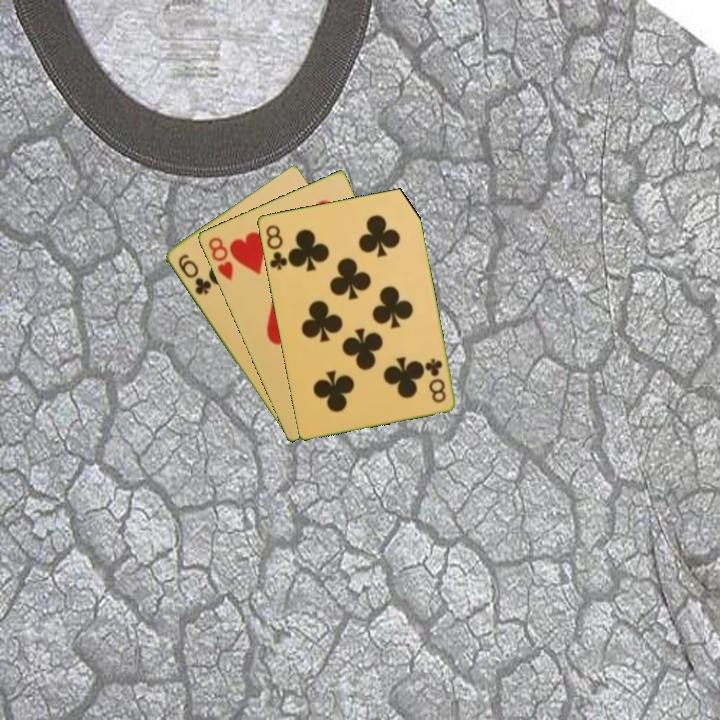6c: (174, 250, 213, 298)
8c: (262, 221, 290, 273), (422, 355, 449, 406)
8h: (204, 233, 236, 283)
